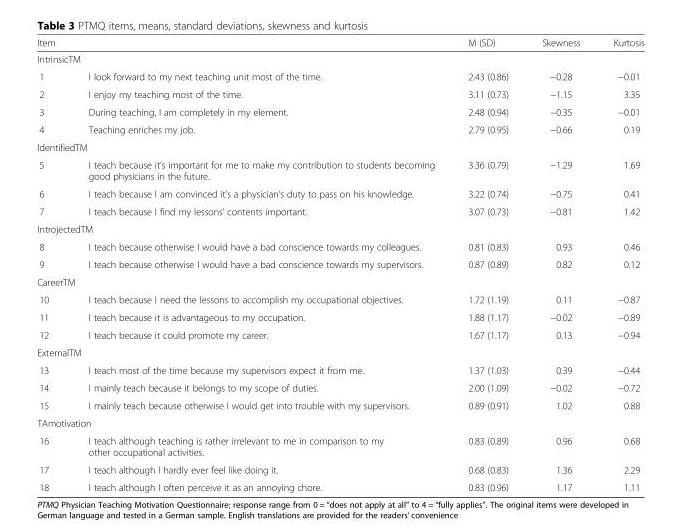table: (36, 36, 643, 492)
table column: (71, 36, 450, 492), (450, 36, 524, 492), (524, 36, 596, 492), (596, 36, 643, 492), (36, 36, 71, 492)
table column header: (36, 36, 643, 50)
table projected row header: (36, 219, 643, 237), (36, 272, 643, 290), (36, 413, 643, 431), (36, 50, 643, 67), (36, 138, 643, 155), (36, 343, 643, 360)
table row: (36, 155, 643, 184), (36, 431, 643, 460), (36, 84, 643, 102), (36, 102, 643, 120), (36, 120, 643, 138), (36, 184, 643, 202), (36, 219, 643, 237), (36, 237, 643, 255), (36, 272, 643, 290), (36, 307, 643, 325), (36, 325, 643, 343), (36, 360, 643, 378), (36, 378, 643, 396), (36, 413, 643, 431), (36, 460, 643, 478), (36, 50, 643, 67), (36, 67, 643, 84), (36, 138, 643, 155), (36, 202, 643, 219), (36, 255, 643, 272), (36, 290, 643, 307), (36, 343, 643, 360), (36, 396, 643, 413), (36, 36, 643, 50), (36, 478, 643, 492)
